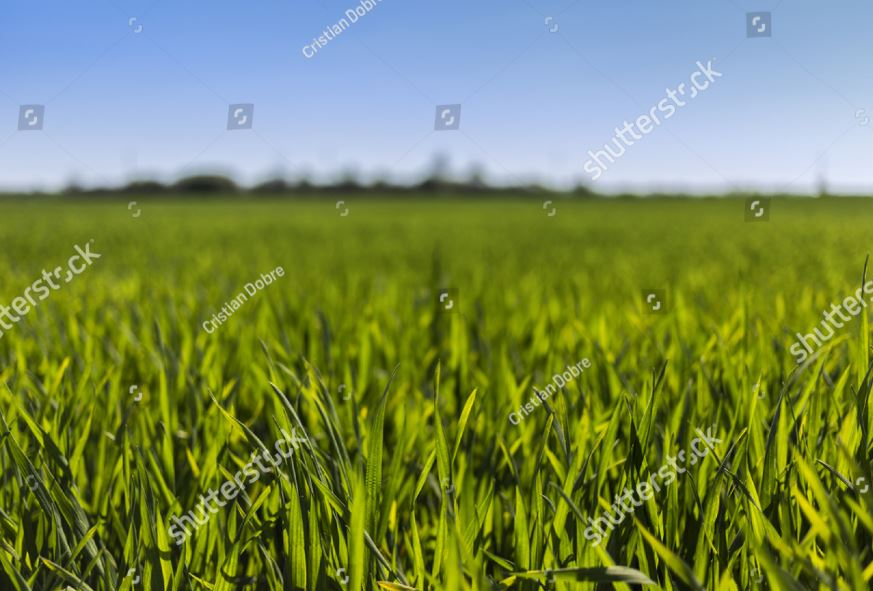Wheat: (56, 327, 832, 573)
